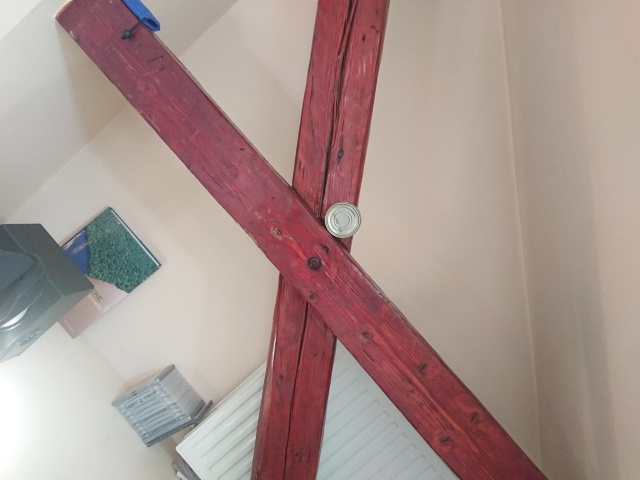Giana Tuna Salad Mexico 185g: (322, 201, 364, 240)
